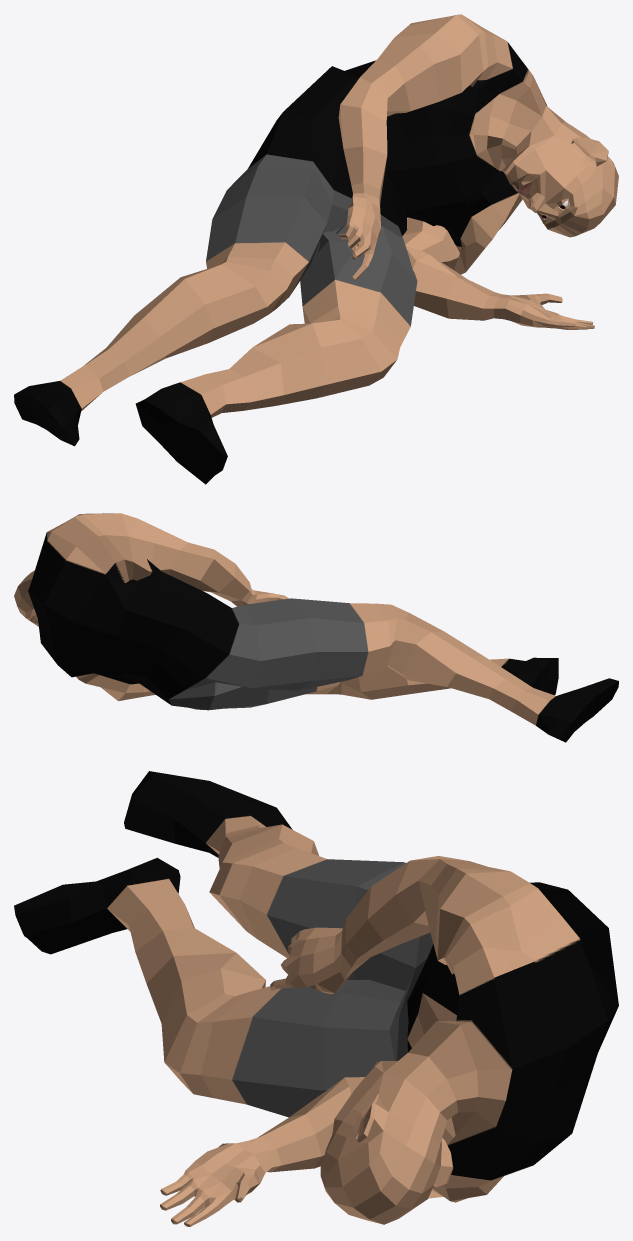
File: PlayerDead(85).obj
3 renders of one model, top to bottom at view 1: azimuth 30°, elevation 25°; view 2: azimuth 150°, elevation 25°; view 3: azimuth 270°, elevation 25°, orthographic. The views are drawn at different scales.
Parts seen in each view (by area): view 1: Plane002; view 2: Plane002; view 3: Plane002.
Boxes of the visible parts, x1,y1,x2,y2 form: Plane002: (14, 14, 618, 484); Plane002: (14, 513, 618, 742); Plane002: (14, 771, 618, 1226).
Size of the model in its own units: 1571 by 559 by 915.
